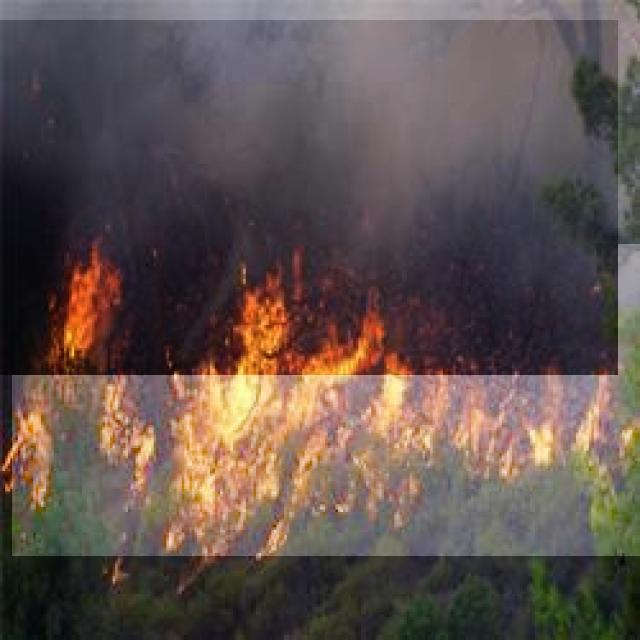Fire: (12, 244, 640, 556)
Smoke: (0, 20, 618, 375)
